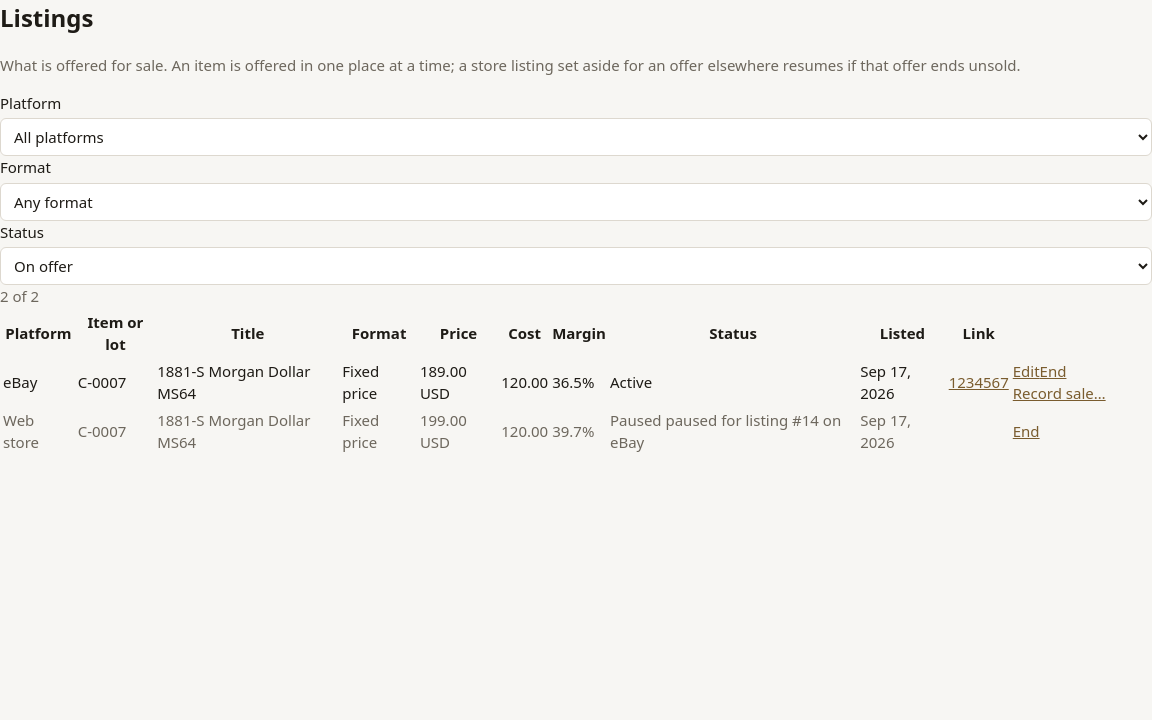
it: Listings › asks a different question before ending a paused row
Click the button "End" in the row of "Web store" at (1026, 431), box [1013, 420, 1040, 442]
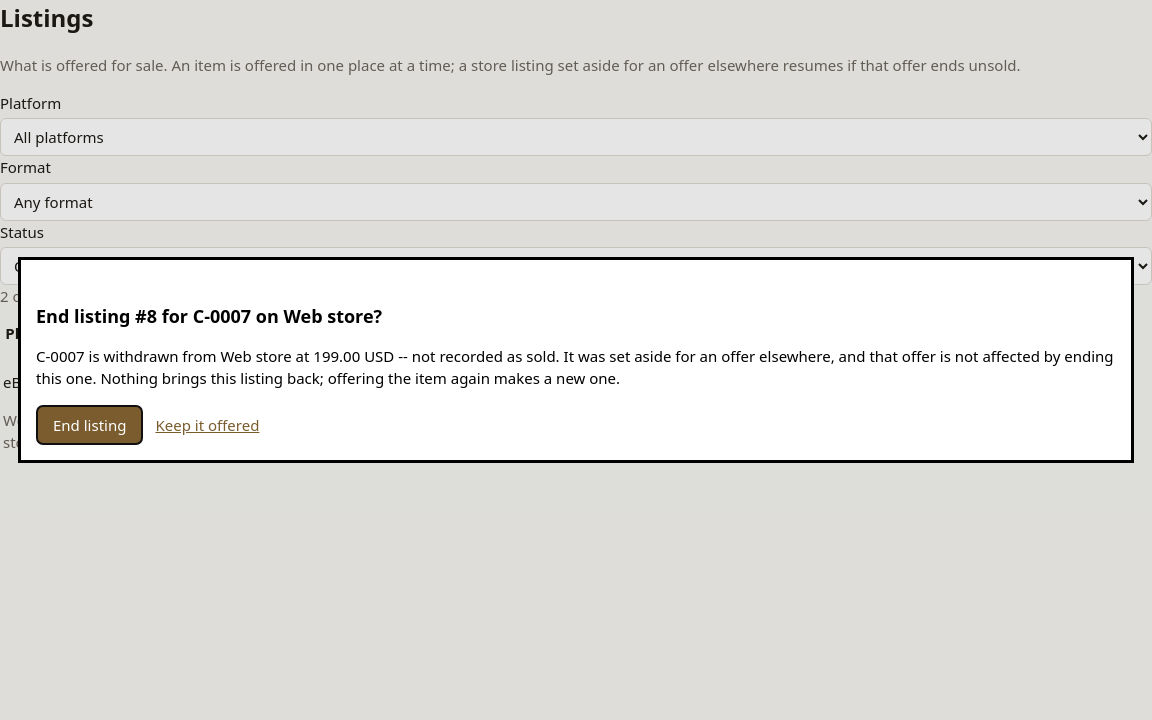
Now the text "not recorded as sold" is shown, box [394, 346, 560, 366]
Now the text "It was set aside for an offer elsewhere, and that offer is not affected by ending this one." is shown, box [36, 346, 1114, 388]
